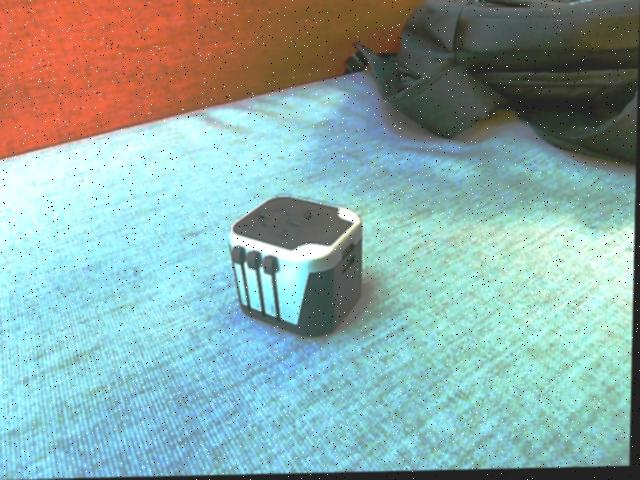adapter: (227, 194, 365, 340)
